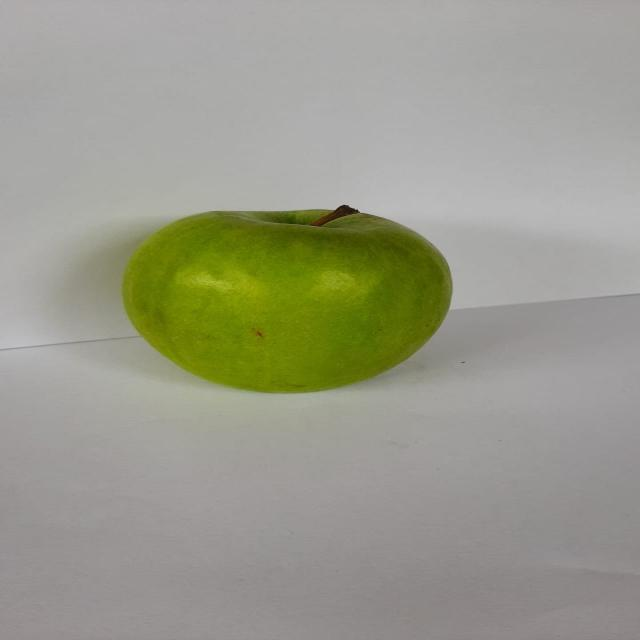50-_ripeness: (104, 191, 469, 402)
